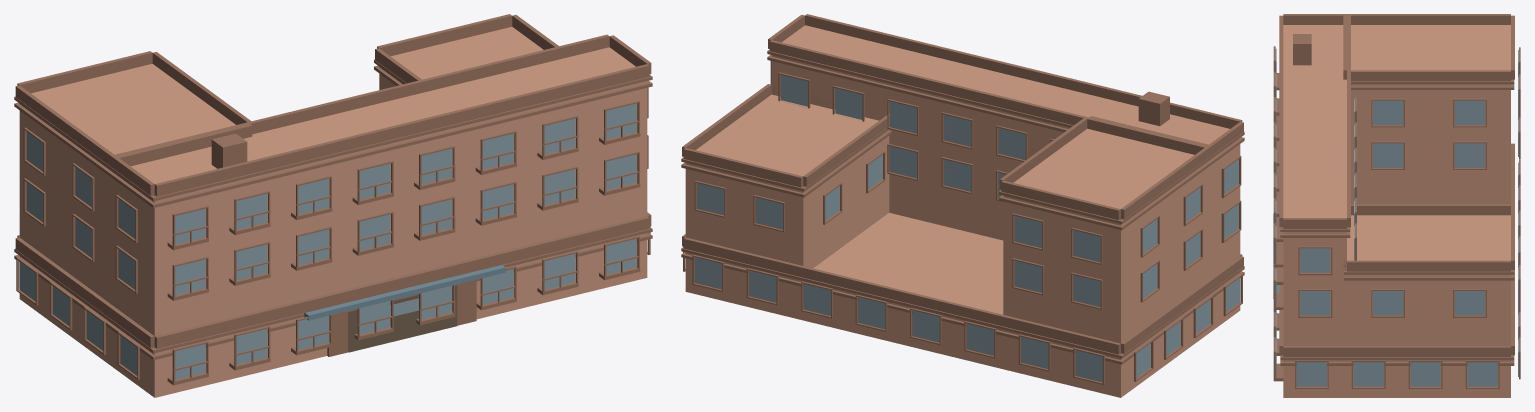
File: residential_4x2_court.glb
The picture shows the model from 3 angles, left to right: view 1: azimuth 30°, elevation 25°; view 2: azimuth 150°, elevation 25°; view 3: azimuth 270°, elevation 25°; orthographic projection. The views are drawn at different scales.
Visible parts, largest first — view 1: residential_4x2_court_0; view 2: residential_4x2_court_0; view 3: residential_4x2_court_0.
Boxes of the visible parts, x1,y1,x2,y2 form: residential_4x2_court_0: (14, 14, 652, 397); residential_4x2_court_0: (681, 14, 1244, 397); residential_4x2_court_0: (1273, 14, 1520, 397).
Size of the model in its own units: 31.74 by 13.5 by 15.77.
